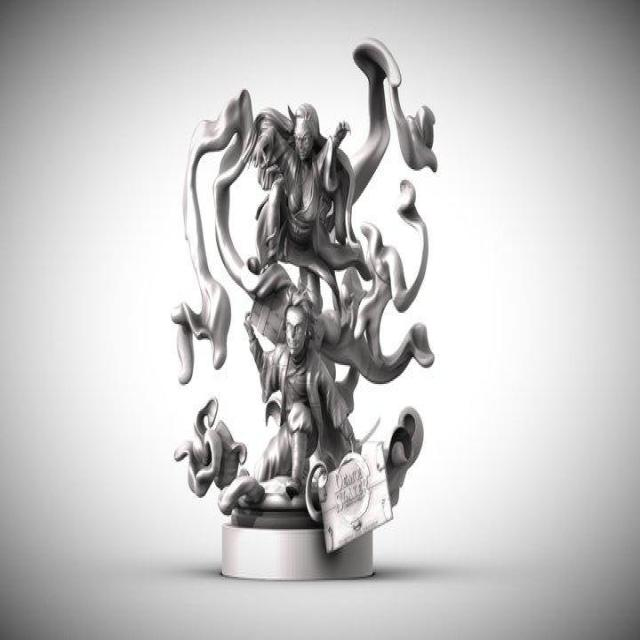Without deffect: (156, 28, 453, 604)
